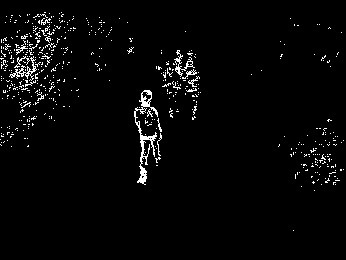person: (131, 89, 161, 184)
